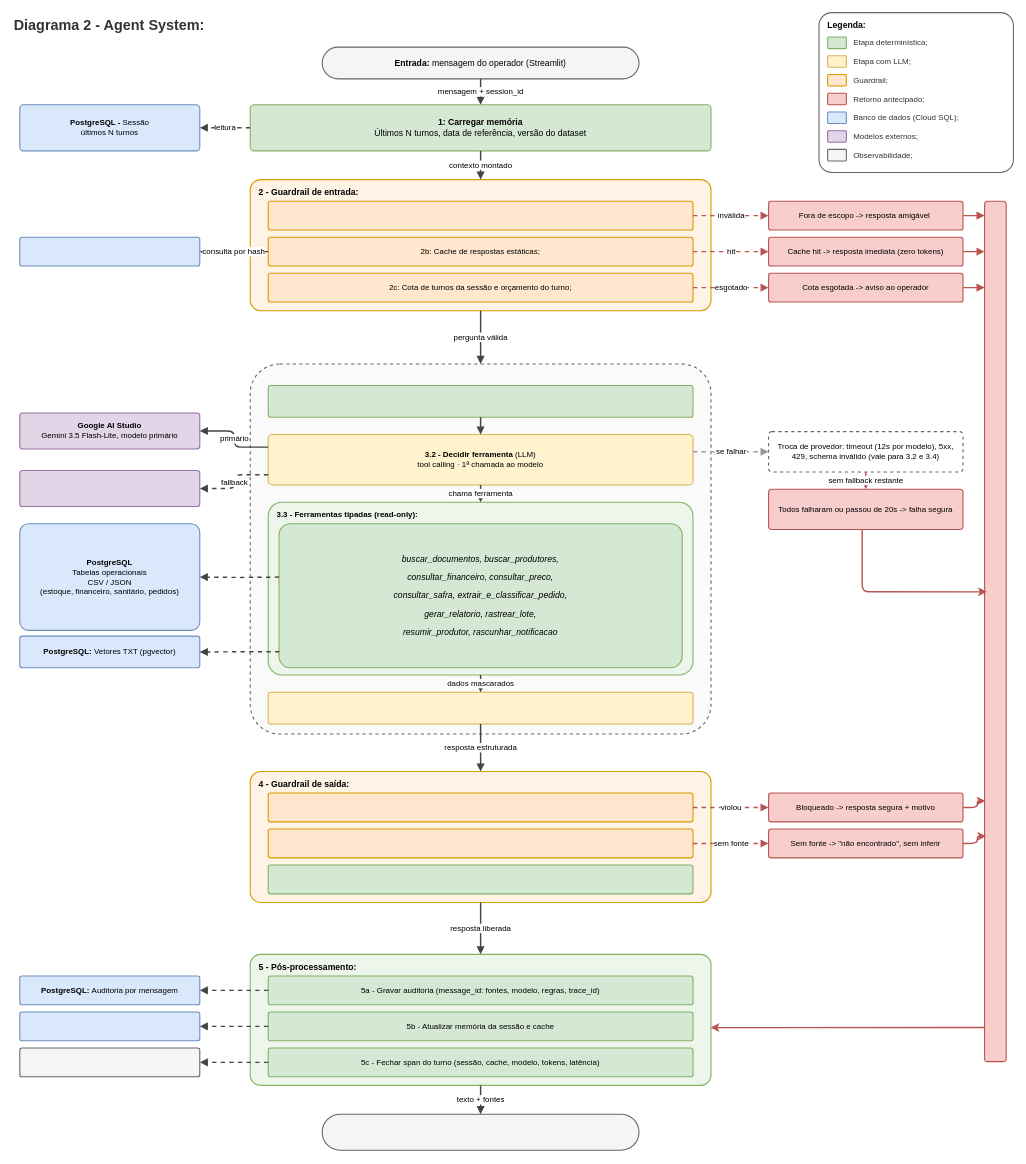
The diagram is 1026 pixels wide and 1164 high, and some of its shapes have lost their labels. Here are the shapes that lost their labels. From the top down, the box of each, then its label:
(267, 200, 693, 230): 2a: Escopo e tamanho da entrada;
(19, 236, 200, 266): PostgreSQL - Cache UNLOGGED
(267, 385, 693, 417): 3.1 - Montar contexto prompt + memória + data de referência
(19, 470, 200, 507): OpenRouter · fallback Mistral Small 3.2 -> Qwen3 32B
(249, 363, 711, 734): 3 - Geração de resposta: (PydanticAI):
(984, 200, 1006, 1062): Retorno antecipado -> pós-processamento
(267, 691, 693, 724): 3.4 - Gerar resposta final (LLM) saída estruturada com texto + fontes + flags
(267, 792, 693, 822): 4a - Regras críticas: P017 sanitário · P008 certificação vencida
(267, 828, 693, 858): 4b - Afirmação factual exige fonte (estoque, saldo, vigência)
(267, 864, 693, 894): 4c - Restaurar dados pessoais para o operador
(19, 1011, 200, 1041): PostgreSQL: Sessão + cache (escrita)
(19, 1047, 200, 1077): Cloud Trace + Cloud Logging
(321, 1113, 639, 1150): Saída: resposta + fontes (+ rascunho, se necessário) -> Streamlit
